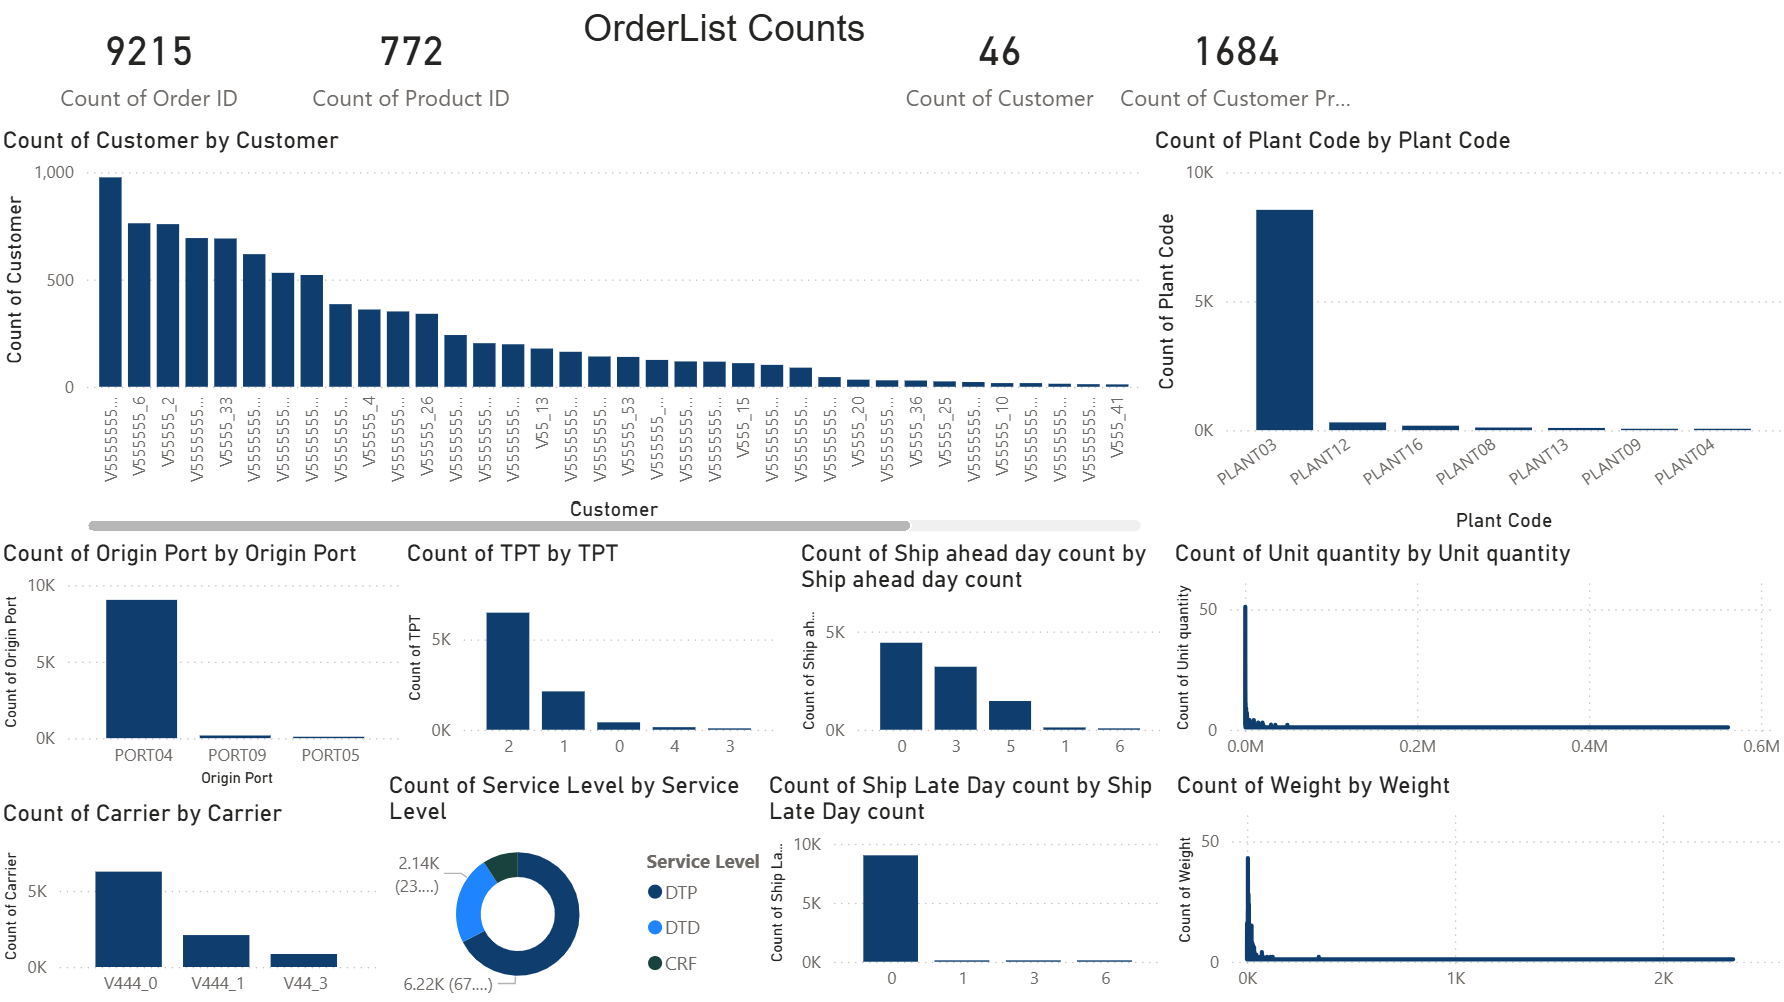

Layout of this report page (visuals, bound fields, positions):
{"tool":"powerbi","page":{"name":"OrderList Counts","canvas":[1280,720],"ordinal":0},"visuals":[{"type":"columnChart","fields":{"Category":["OrderList.Customer"],"Y":["CountNonNull(OrderList.Customer)"]},"box":[0,90,822.5,293.8],"z":0},{"type":"textbox","box":[321.1,0,397.8,67.8],"z":1000},{"type":"clusteredColumnChart","fields":{"Y":["CountNonNull(OrderList.Origin Port)"],"Category":["OrderList.Origin Port"]},"box":[0,383.8,297.5,181.2],"z":2000},{"type":"card","fields":{"Values":["Count(OrderList.Product ID)"]},"box":[177.5,0,238.8,90],"z":3000},{"type":"donutChart","fields":{"Y":["CountNonNull(OrderList.Service Level)"],"Category":["OrderList.Service Level"]},"box":[276.2,550,285,166.2],"z":4000},{"type":"clusteredColumnChart","fields":{"Y":["CountNonNull(OrderList.Ship Late Day count)"],"Category":["OrderList.Ship Late Day count"]},"box":[547.5,550,291.2,166.2],"z":5000},{"type":"clusteredColumnChart","fields":{"Category":["OrderList.TPT"],"Y":["CountNonNull(OrderList.TPT)"]},"box":[288.8,383.8,272.5,166.2],"z":6000},{"type":"clusteredColumnChart","fields":{"Y":["CountNonNull(OrderList.Carrier)"],"Category":["OrderList.Carrier"]},"box":[0,570,276.2,150],"z":7000},{"type":"clusteredColumnChart","fields":{"Category":["OrderList.Ship ahead day count"],"Y":["CountNonNull(OrderList.Ship ahead day count)"]},"box":[570,383.8,268.8,166.2],"z":8000},{"type":"card","fields":{"Values":["Count(OrderList.Customer)"]},"box":[640,0,153.8,90],"z":9000},{"type":"clusteredColumnChart","fields":{"Y":["CountNonNull(OrderList.Plant Code)"],"Category":["OrderList.Plant Code"]},"box":[822.5,90,457.5,293.8],"z":10000},{"type":"lineChart","fields":{"Category":["OrderList.Unit quantity"],"Y":["CountNonNull(OrderList.Unit quantity)"]},"box":[837.5,383.8,442.5,166.2],"z":11000},{"type":"lineChart","fields":{"Category":["OrderList.Weight"],"Y":["CountNonNull(OrderList.Weight)"]},"box":[838.8,550,441.2,166.2],"z":12000},{"type":"card","fields":{"Values":["CountNonNull(OrderList.Order ID)"]},"box":[0,0,218.8,90],"z":13000},{"type":"card","fields":{"Values":["Count(OrderList.Unique Combination)"]},"box":[793.8,0,182.5,90],"z":14000}]}

Visuals, with their boxes in screenshot pixels (x1, y1, x2, y2), scaled from the page's 1280x720 canvas onto the 1784x1002 screenshot:
columnChart - OrderList.Customer x CountNonNull(OrderList.Customer): select_region(0, 125, 1146, 534)
textbox: select_region(448, 0, 1002, 94)
clusteredColumnChart - CountNonNull(OrderList.Origin Port) x OrderList.Origin Port: select_region(0, 534, 415, 786)
card - Count(OrderList.Product ID): select_region(247, 0, 580, 125)
donutChart - CountNonNull(OrderList.Service Level) x OrderList.Service Level: select_region(385, 765, 782, 997)
clusteredColumnChart - CountNonNull(OrderList.Ship Late Day count) x OrderList.Ship Late Day count: select_region(763, 765, 1169, 997)
clusteredColumnChart - OrderList.TPT x CountNonNull(OrderList.TPT): select_region(403, 534, 782, 765)
clusteredColumnChart - CountNonNull(OrderList.Carrier) x OrderList.Carrier: select_region(0, 793, 385, 1001)
clusteredColumnChart - OrderList.Ship ahead day count x CountNonNull(OrderList.Ship ahead day count): select_region(794, 534, 1169, 765)
card - Count(OrderList.Customer): select_region(892, 0, 1106, 125)
clusteredColumnChart - CountNonNull(OrderList.Plant Code) x OrderList.Plant Code: select_region(1146, 125, 1783, 534)
lineChart - OrderList.Unit quantity x CountNonNull(OrderList.Unit quantity): select_region(1167, 534, 1783, 765)
lineChart - OrderList.Weight x CountNonNull(OrderList.Weight): select_region(1169, 765, 1783, 997)
card - CountNonNull(OrderList.Order ID): select_region(0, 0, 305, 125)
card - Count(OrderList.Unique Combination): select_region(1106, 0, 1361, 125)
